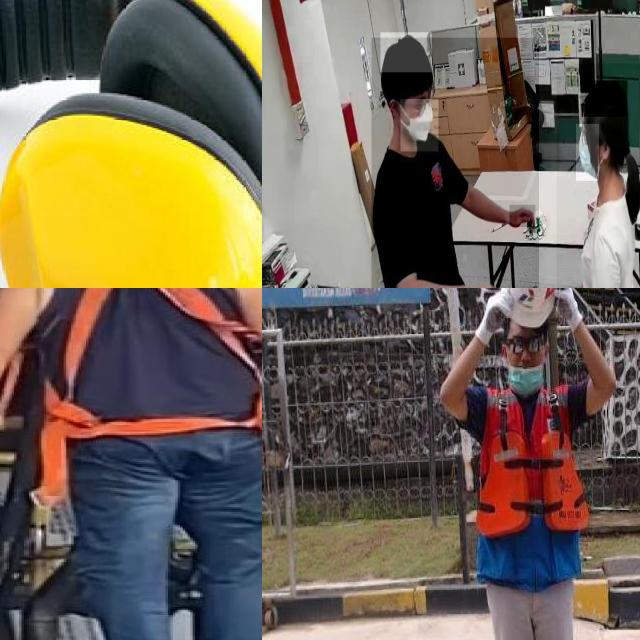Ear-protection: (0, 0, 262, 288)
Harness: (64, 288, 262, 445)
face_mask: (401, 99, 438, 151), (576, 124, 599, 181)
hand_noglove: (510, 205, 536, 228)
head_helmet: (503, 288, 559, 326)
head_nohelmet: (380, 32, 432, 74), (580, 80, 628, 118)
person: (424, 288, 628, 640), (371, 37, 539, 288), (556, 63, 640, 288)
vest: (473, 384, 586, 579)
